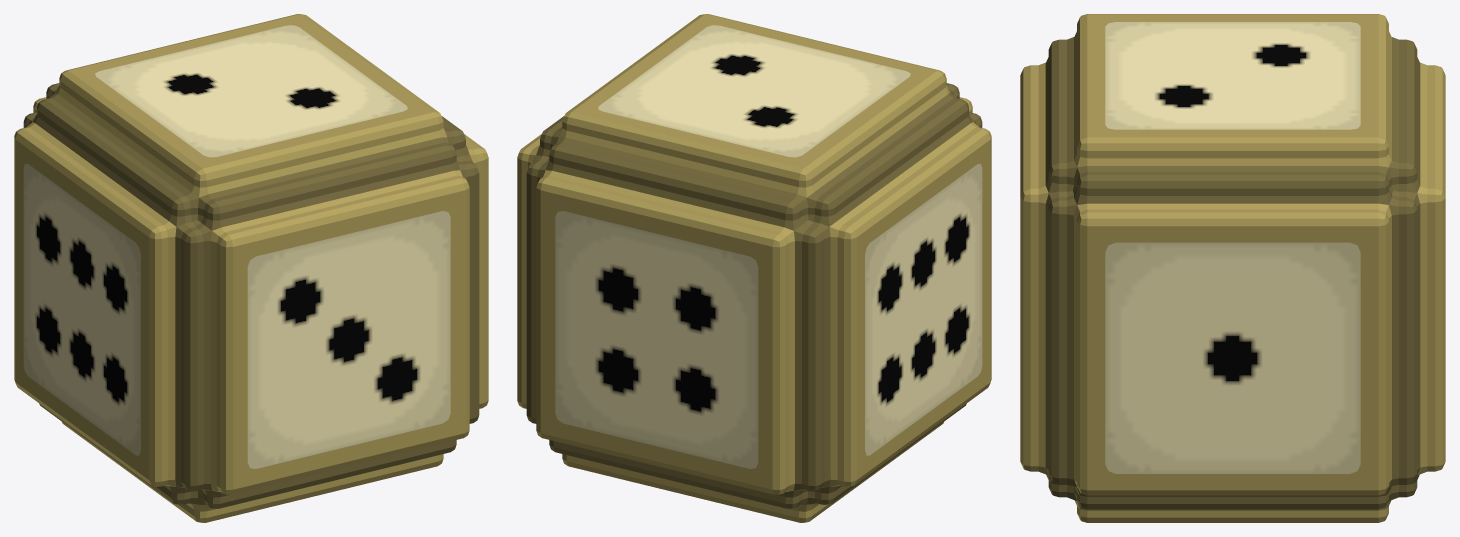
The model's file is dado_v2.obj.
The picture shows the model from 3 angles, left to right: view 1: azimuth 30°, elevation 25°; view 2: azimuth 150°, elevation 25°; view 3: azimuth 270°, elevation 25°; orthographic projection. The views are drawn at different scales.
Visible parts, largest first — view 1: Cube.002; view 2: Cube.002; view 3: Cube.002.
Part boxes in pixels (x1,y1,x2,y2): Cube.002: [14, 14, 488, 522]; Cube.002: [517, 14, 991, 522]; Cube.002: [1020, 14, 1445, 522].
Bounding box in the file's own units: 2.08 × 2.08 × 2.08.
Materials: 3 (1 with a texture image).
